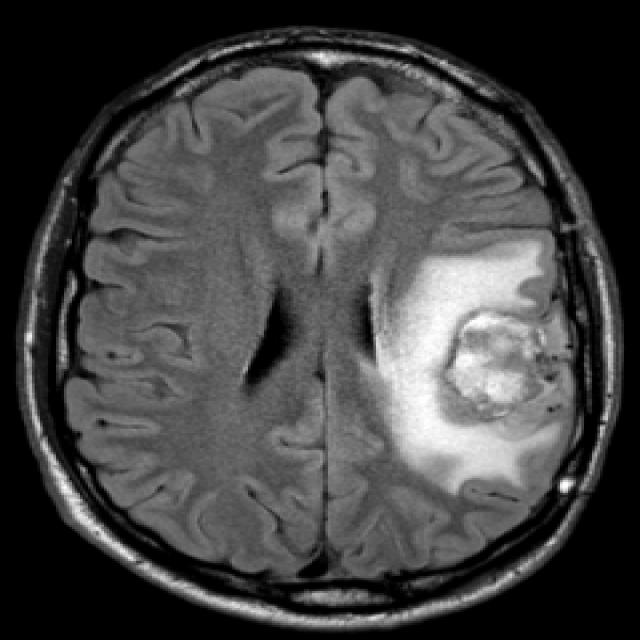Tumor-Cell: (403, 252, 572, 444)
